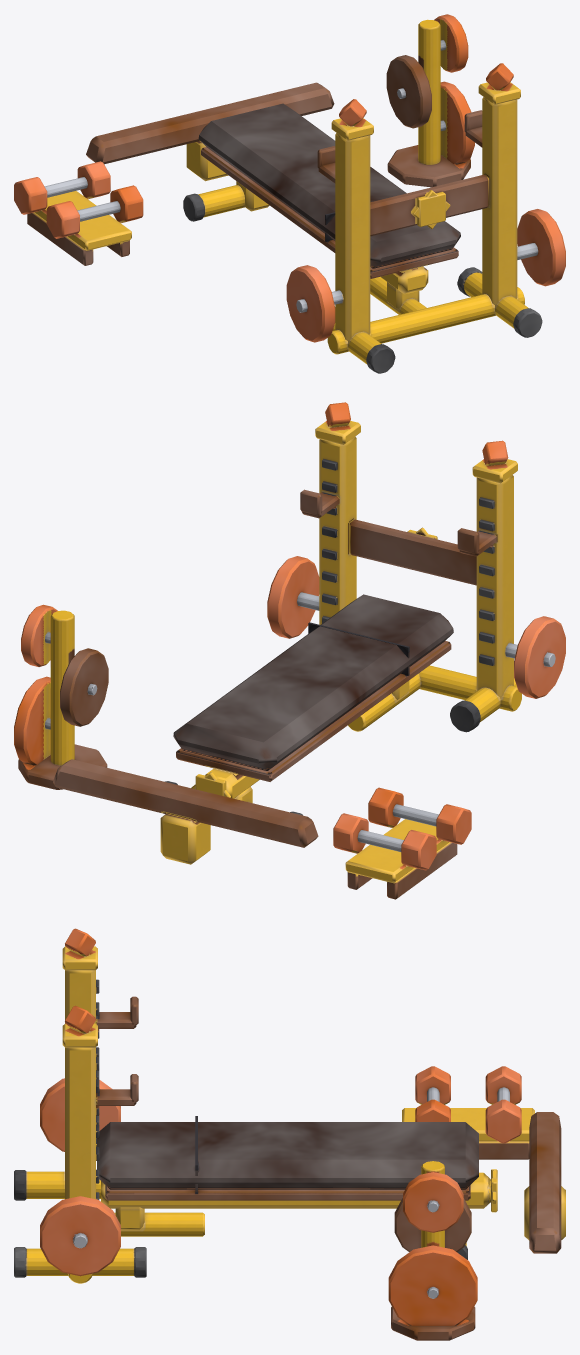
The model's file is Bench_Or_Rig.fbx.
3 renders of one model, top to bottom at view 1: azimuth 30°, elevation 25°; view 2: azimuth 150°, elevation 25°; view 3: azimuth 270°, elevation 25°, orthographic. The views are drawn at different scales.
Visible parts, largest first — view 1: Rack, Weights, Bench, Decor; view 2: Rack, Weights, Bench, Decor; view 3: Bench, Weights, Rack, Decor.
Boxes of the visible parts, <box> form: Rack: <box>286,82,565,373</box>; Weights: <box>14,14,474,265</box>; Bench: <box>183,103,460,294</box>; Decor: <box>339,63,513,126</box>; Rack: <box>267,421,565,732</box>; Weights: <box>14,604,471,899</box>; Bench: <box>165,594,453,815</box>; Decor: <box>325,402,508,465</box>; Bench: <box>97,1116,497,1259</box>; Weights: <box>388,1066,565,1340</box>; Rack: <box>14,946,204,1283</box>; Decor: <box>65,928,95,1033</box>.
Size of the model in its own units: 10.33 by 6 by 11.22.
Materials: 1 (1 with a texture image).
